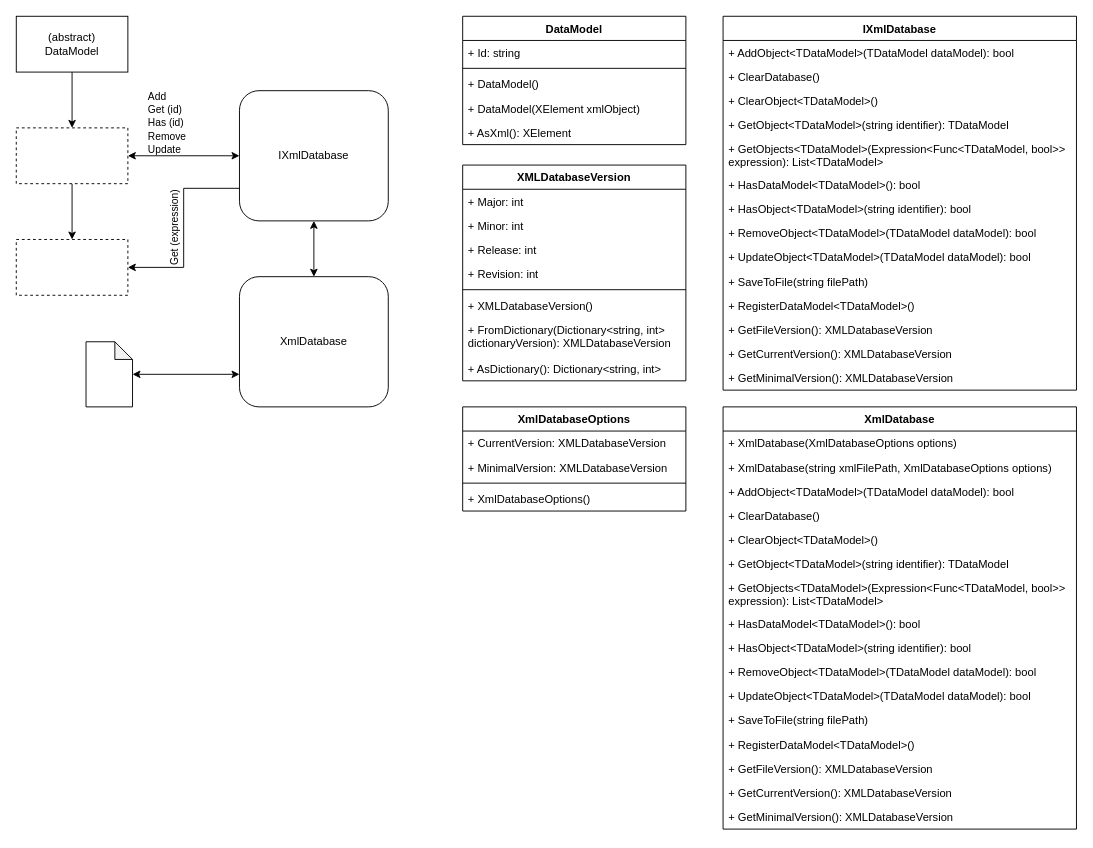
This 1093x848 diagram has some shape labels left out. The shapes that lost their labels are listed below. From the top down, each one's centre as x and y in pixels, then its label:
(71,155): (class) AnyClassName
(71,267): (IEnumerable) AnyClassName
(109,374): Xml File
